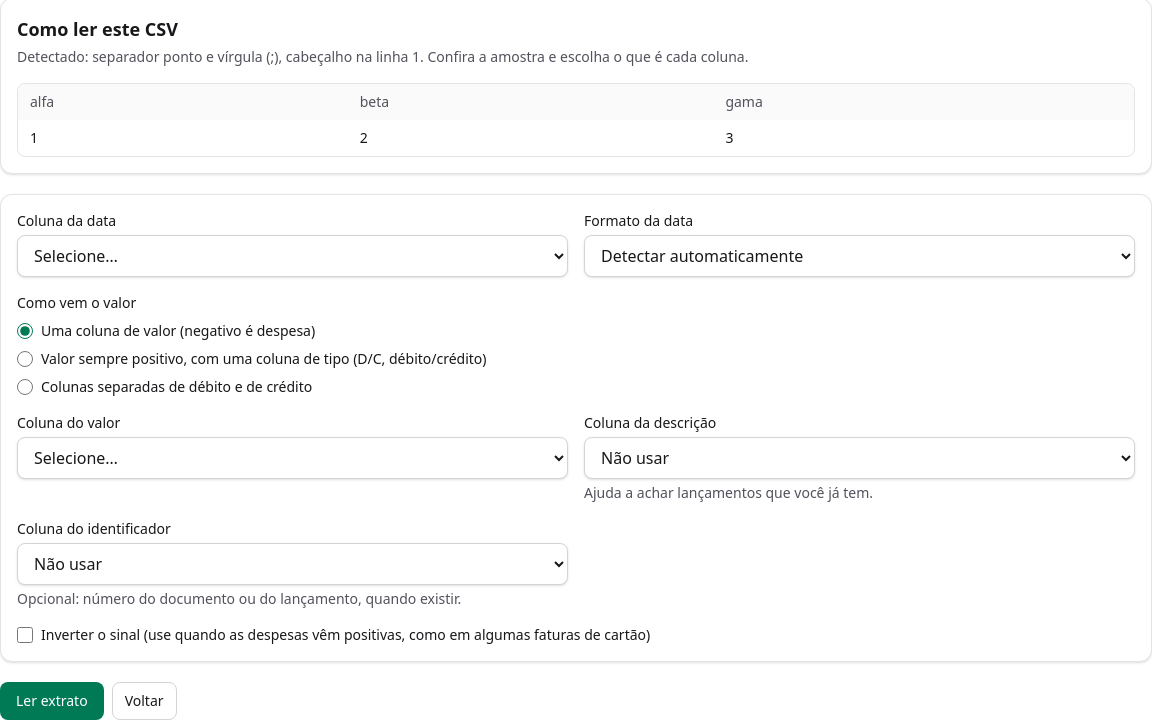
Test case: CsvMapper › sem palpite, o usuário escolhe tudo e o formulário cobra o obrigatório
The width and height of the screenshot is (1152, 720).
Later steps or results of the test are not shown.
Click the button "Ler extrato": (52, 701) [0,682,104,719]
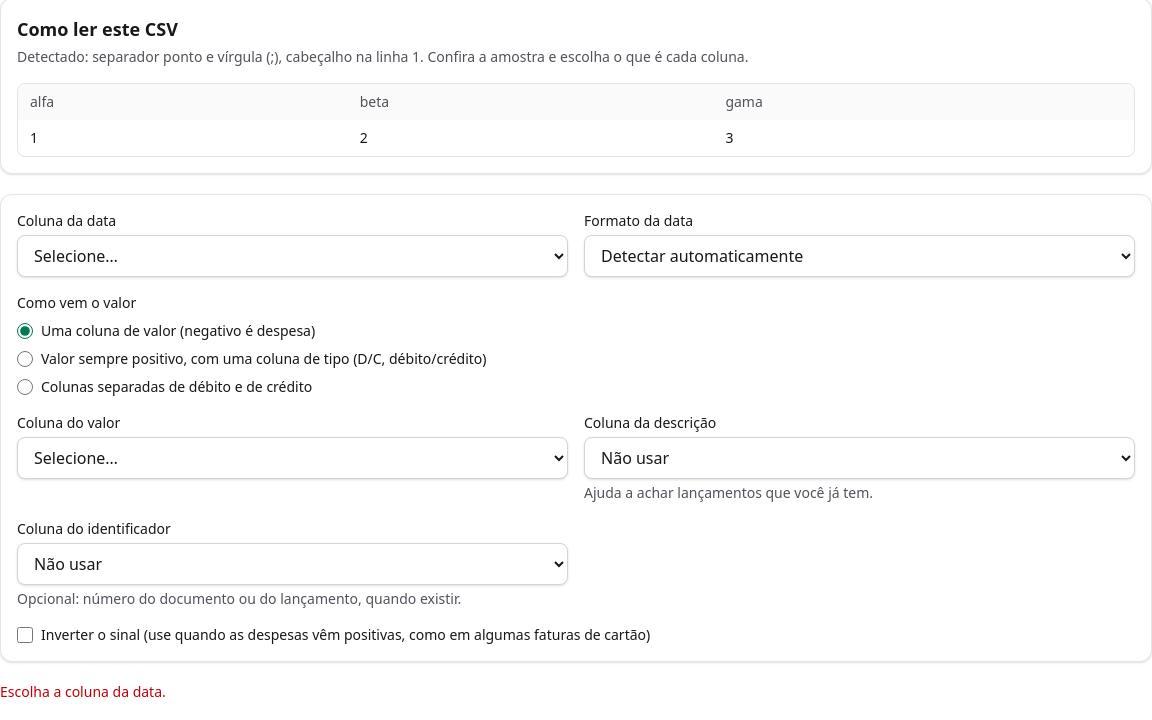
Expected: the message reads "Escolha a coluna da data.", [0,682,166,701]
Select "alfa" in the dropdown labelled "Coluna da data": (292, 256) [17,235,568,277]
(page scrolled)
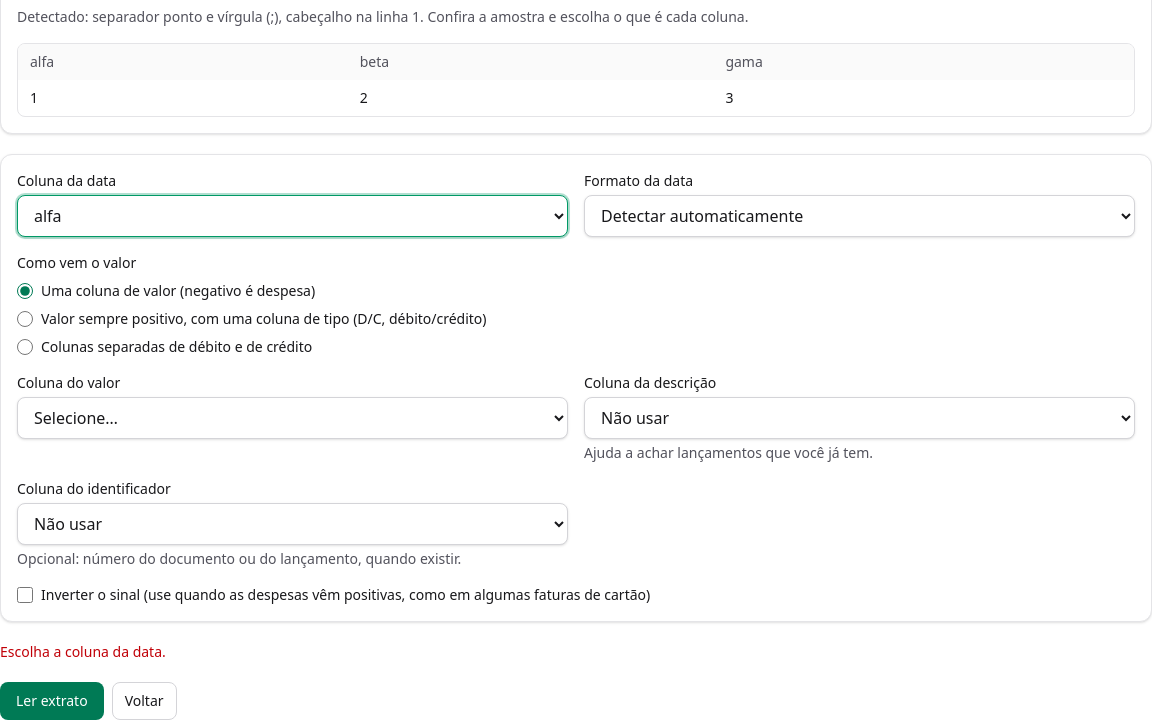
Click the button "Ler extrato": (52, 701) [0,682,104,719]
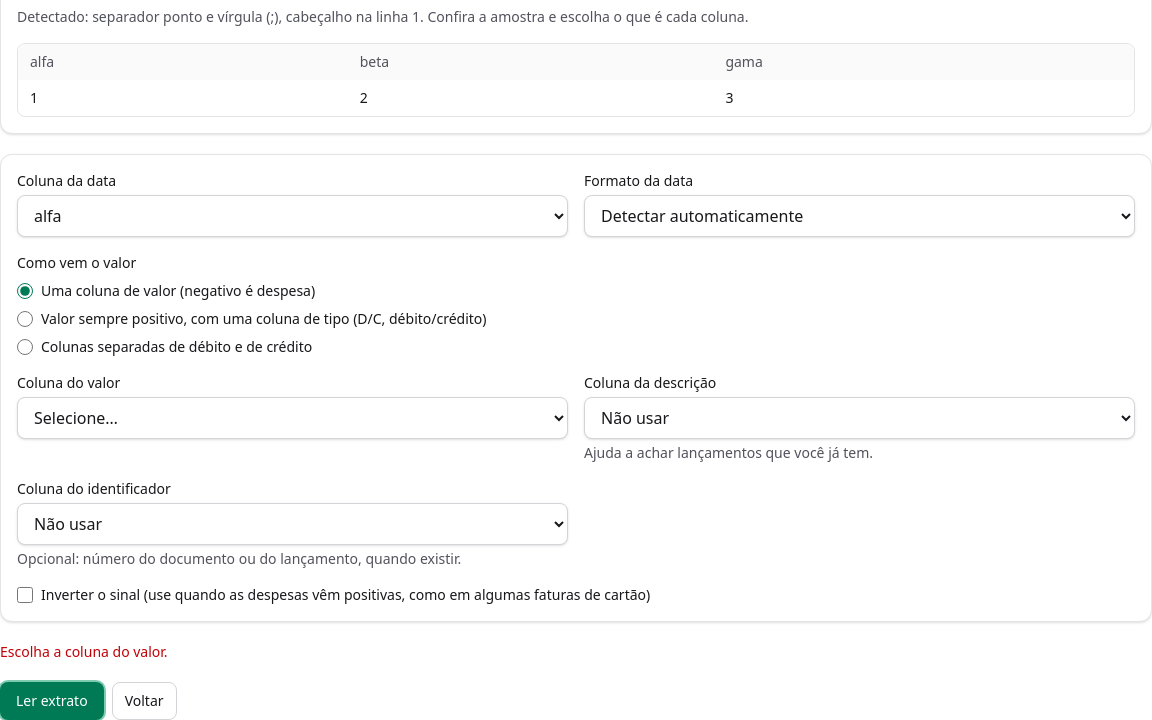
Expected: the message reads "Escolha a coluna do valor.", [0,642,168,661]
